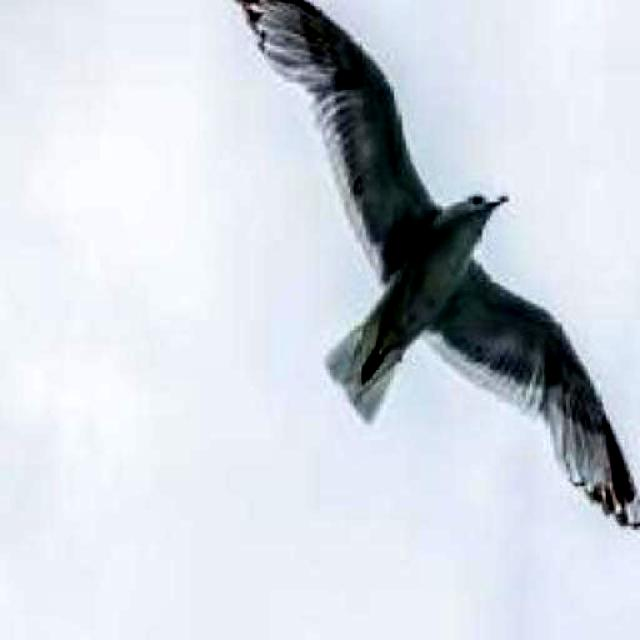airplane: (221, 0, 640, 530)
